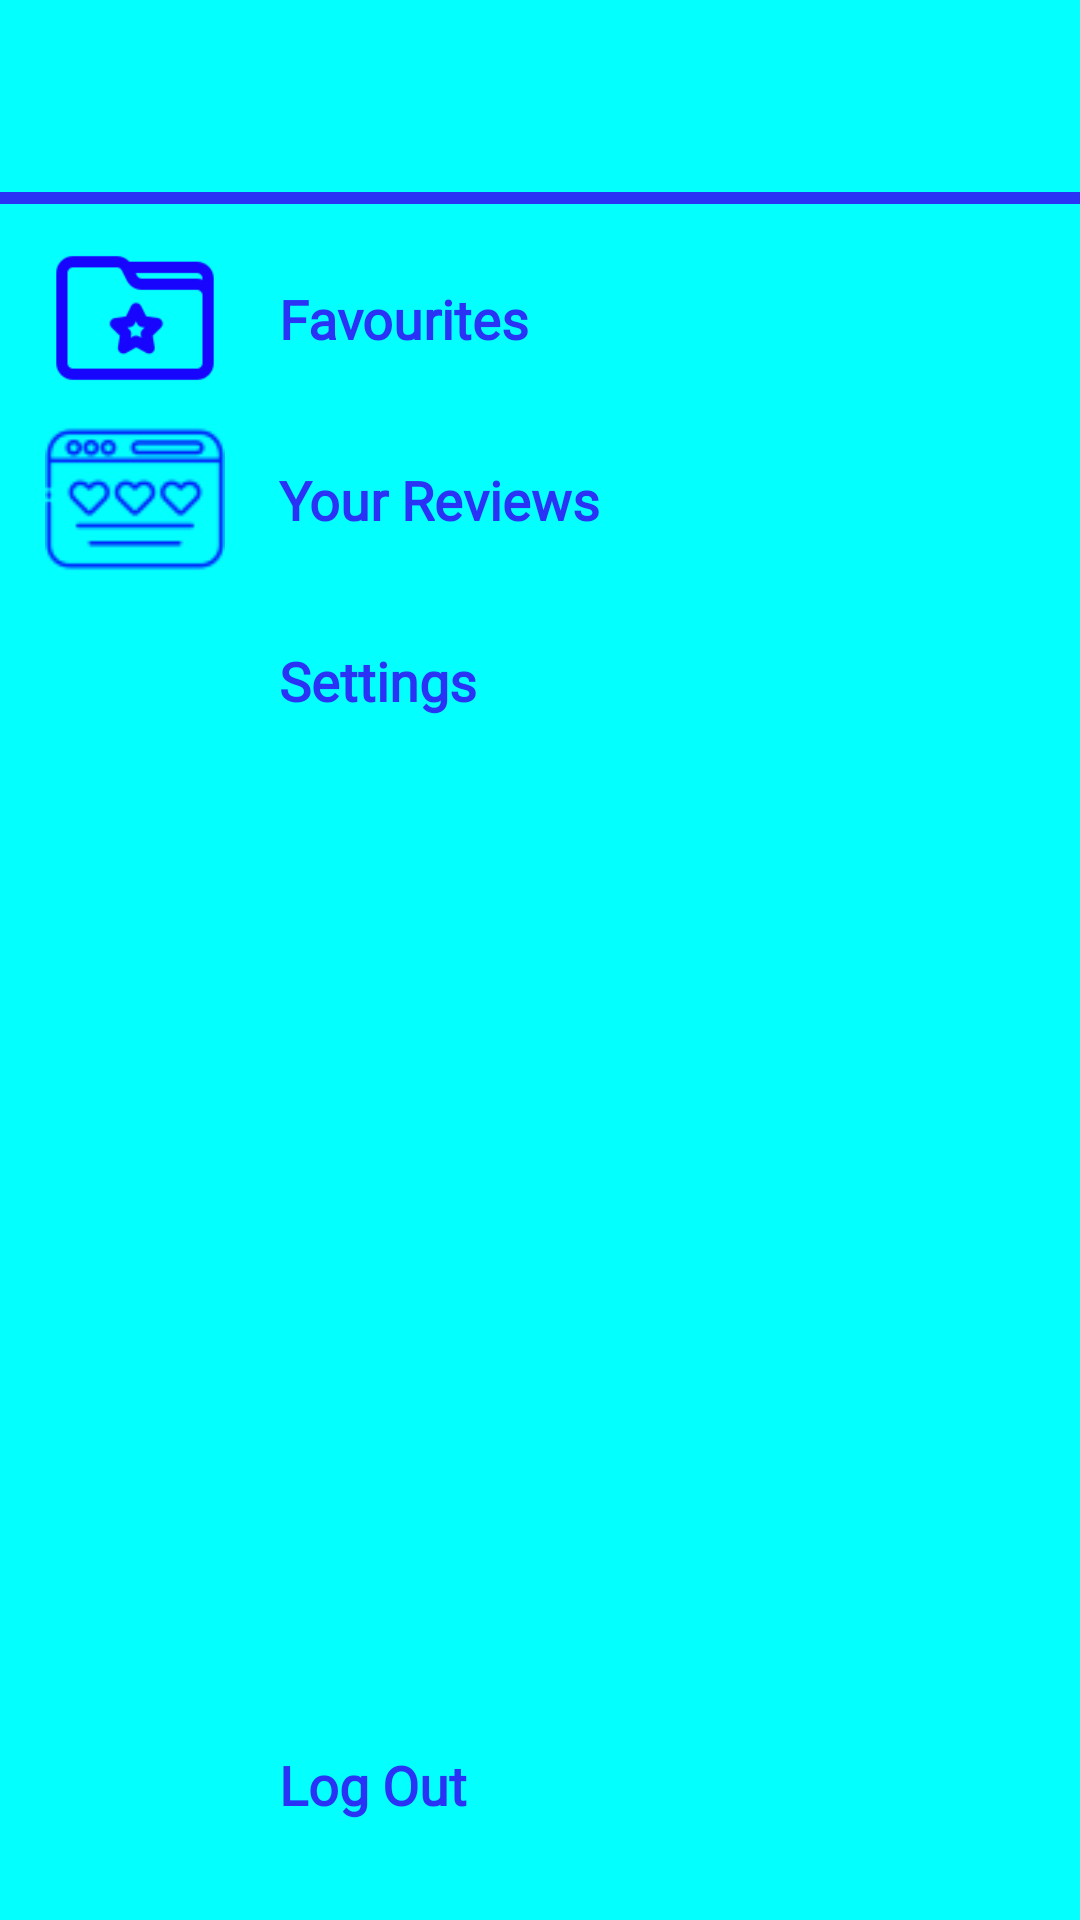

Named icons in this screenshot (1080 × 1920) and their bounding boxes, (x1, y1, x2, y2):
favourite folder: (56, 256, 214, 380)
